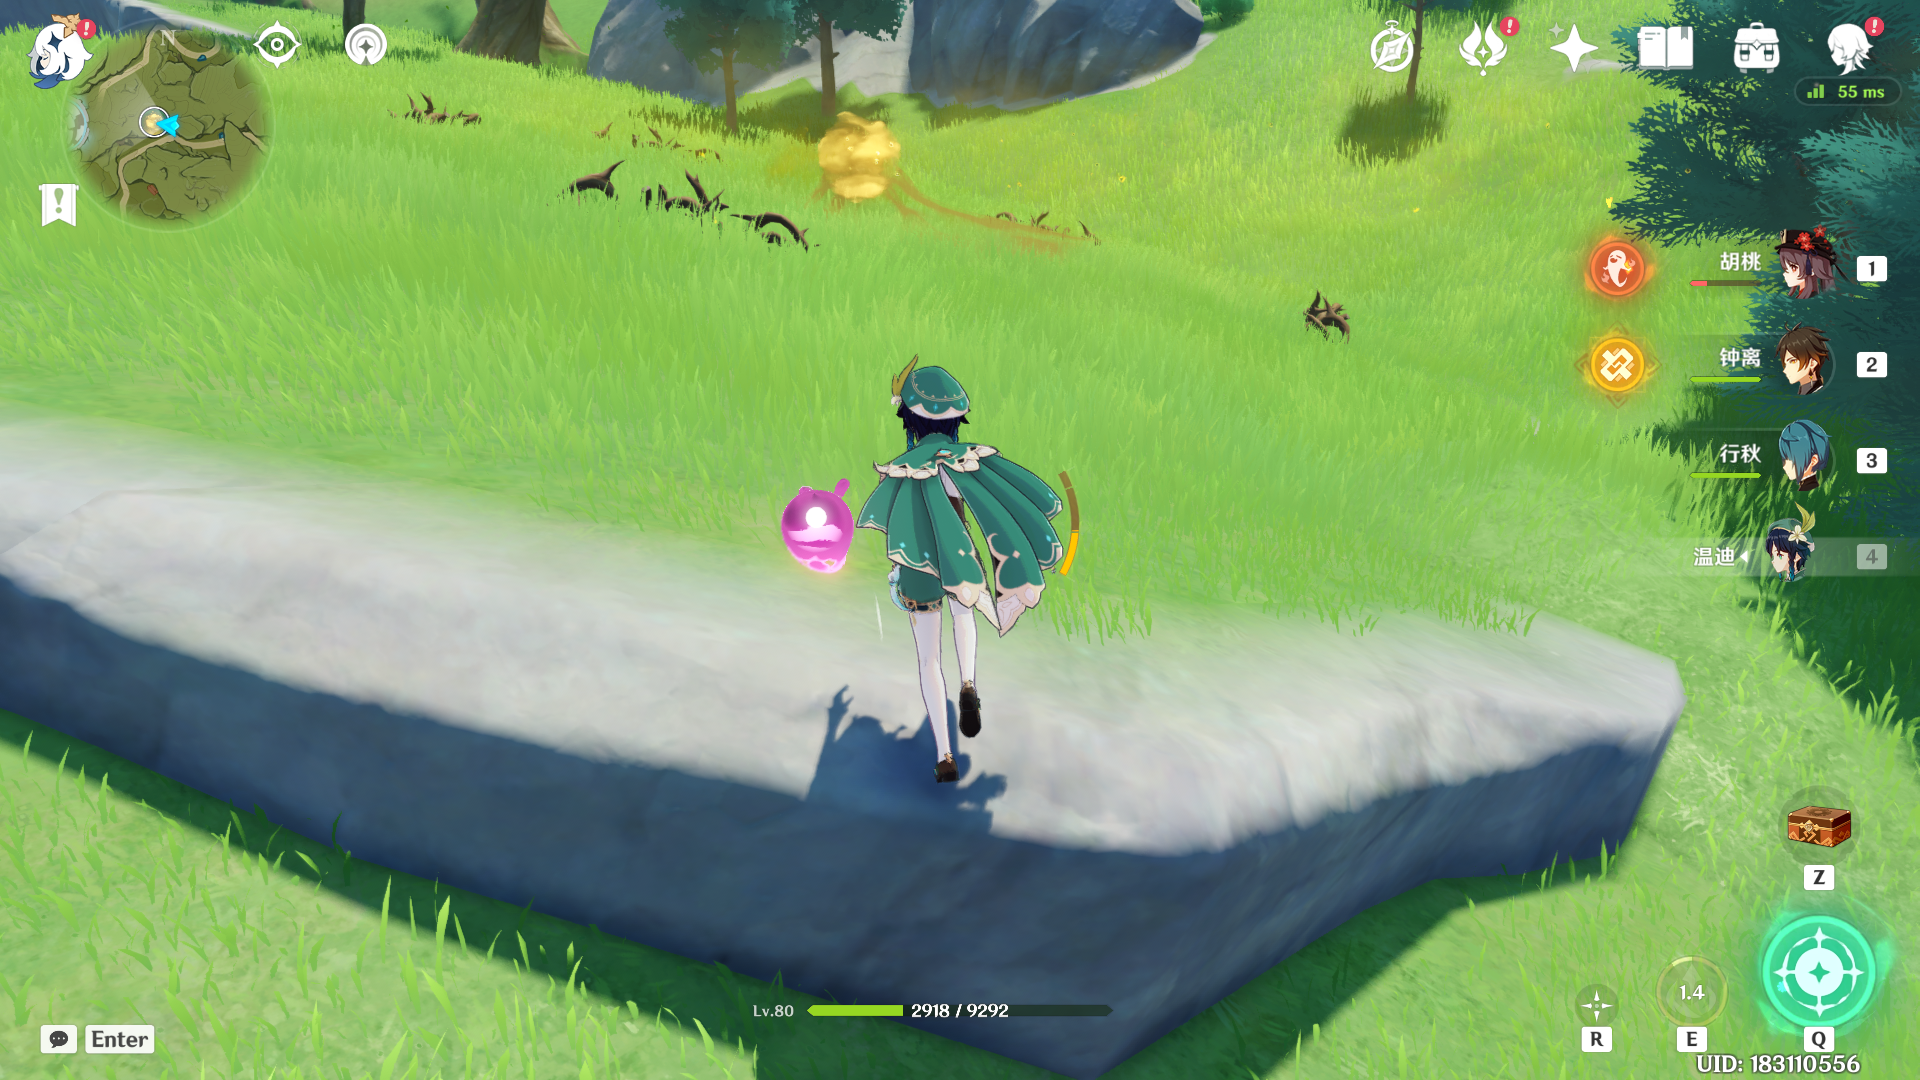character: (804, 332, 1093, 785)
